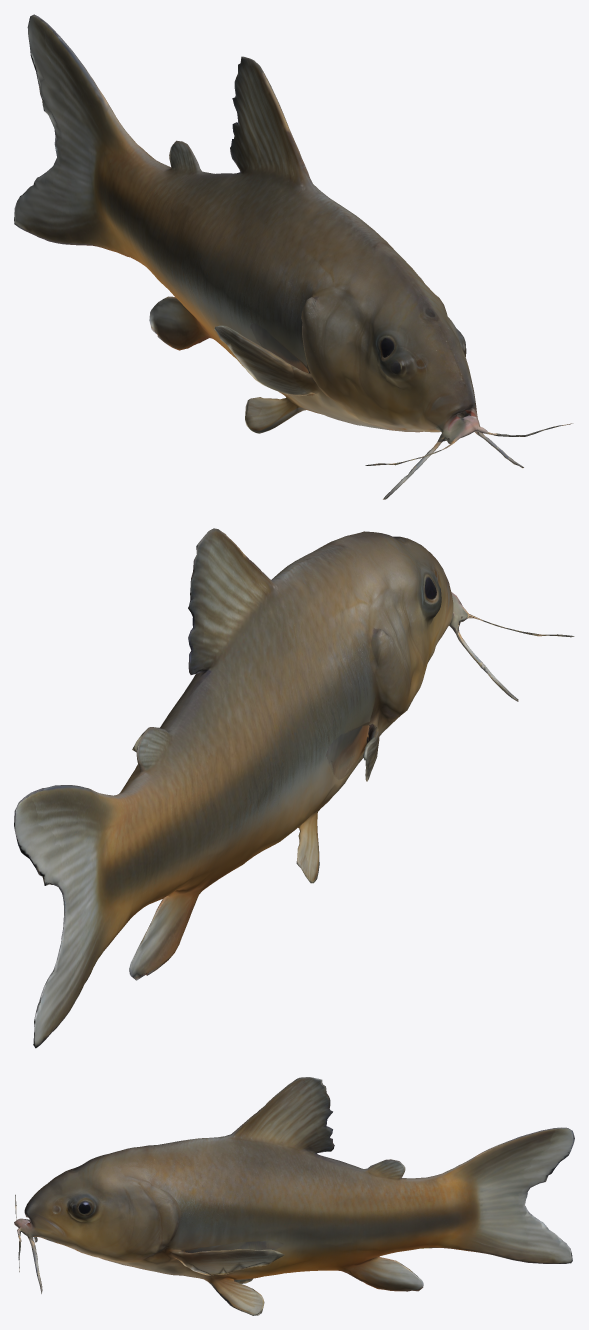
The model's file is Corydoras_biru_0604063506_texture.glb.
The picture shows the model from 3 angles, top to bottom: view 1: azimuth 30°, elevation 25°; view 2: azimuth 150°, elevation 25°; view 3: azimuth 270°, elevation 25°; orthographic projection. The views are drawn at different scales.
Bounding box in the file's own units: 0.5937 × 0.8844 × 1.98.
1 material, 1 textured.
